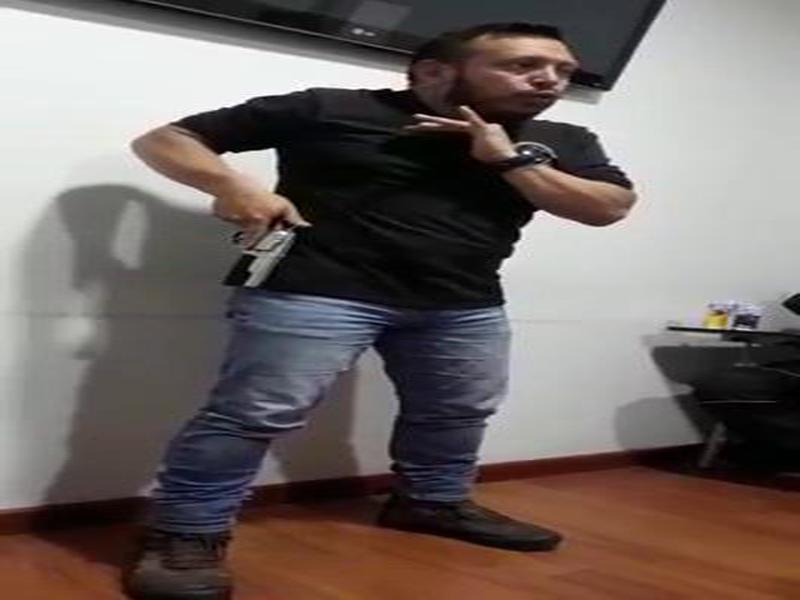Revolver: (215, 195, 304, 310)
